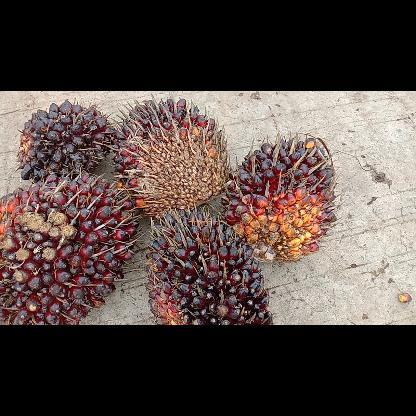TBS mentah: (0, 172, 141, 325), (222, 130, 340, 262), (146, 204, 272, 324), (112, 94, 230, 220), (14, 99, 116, 182)
